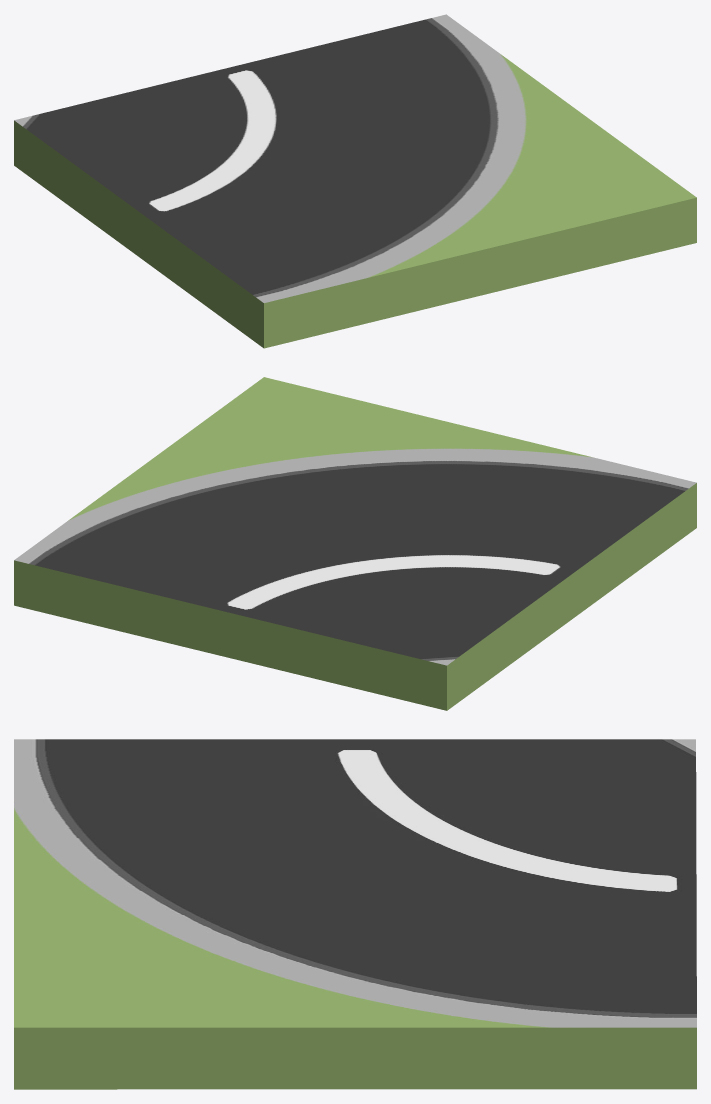
The model's file is Road_1.FBX.
The picture shows the model from 3 angles, top to bottom: view 1: azimuth 30°, elevation 25°; view 2: azimuth 150°, elevation 25°; view 3: azimuth 270°, elevation 25°; orthographic projection. The views are drawn at different scales.
Visible parts, largest first — view 1: Road; view 2: Road; view 3: Road.
Boxes of the visible parts, x1,y1,x2,y2 form: Road: (14, 14, 696, 348); Road: (14, 377, 696, 710); Road: (14, 739, 696, 1089).
Size of the model in its own units: 1 by 0.1 by 1.
